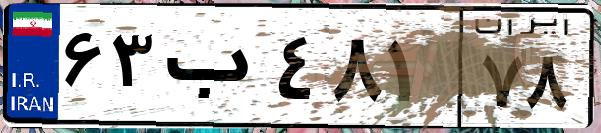1: (385, 28, 445, 110)
3: (110, 28, 158, 98)
4: (270, 28, 330, 110)
6: (57, 26, 110, 100)
7: (475, 38, 525, 113)
8: (330, 28, 385, 110), (525, 38, 570, 115)
ب: (158, 20, 270, 120)
